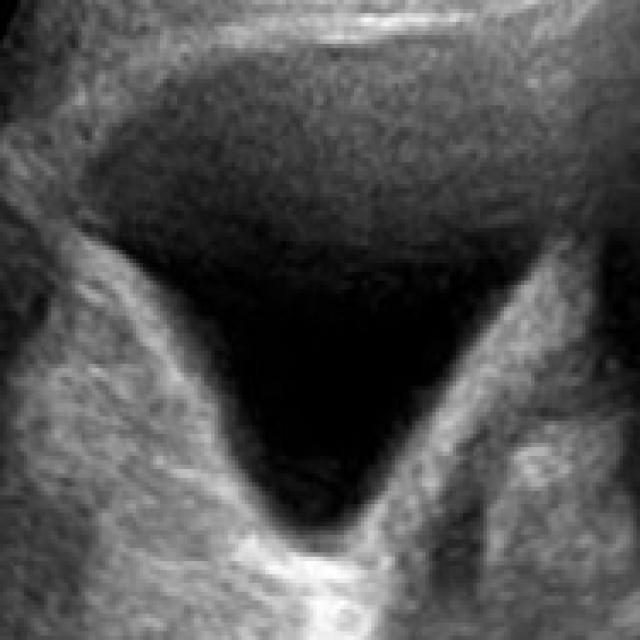bladder: (21, 19, 587, 617)
